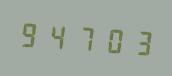four: (45, 17, 71, 54)
nine: (18, 15, 44, 53)
seven: (72, 19, 98, 56)
three: (126, 22, 152, 60)
zero: (99, 20, 125, 58)
